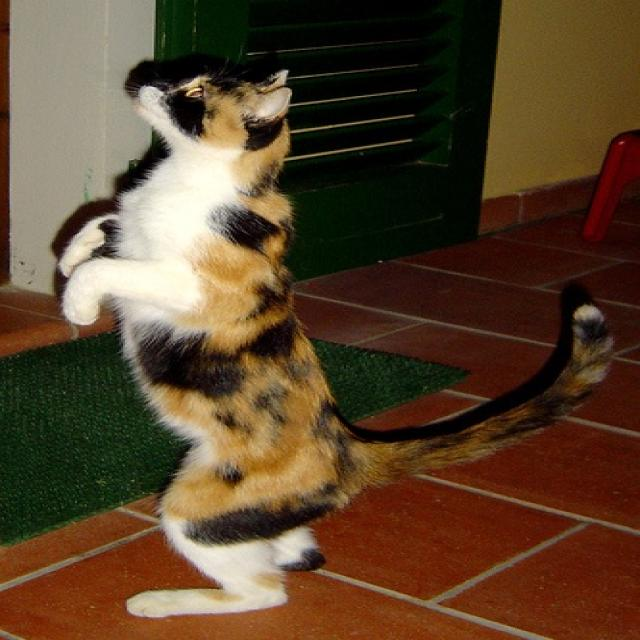cat: (60, 69, 613, 618)
